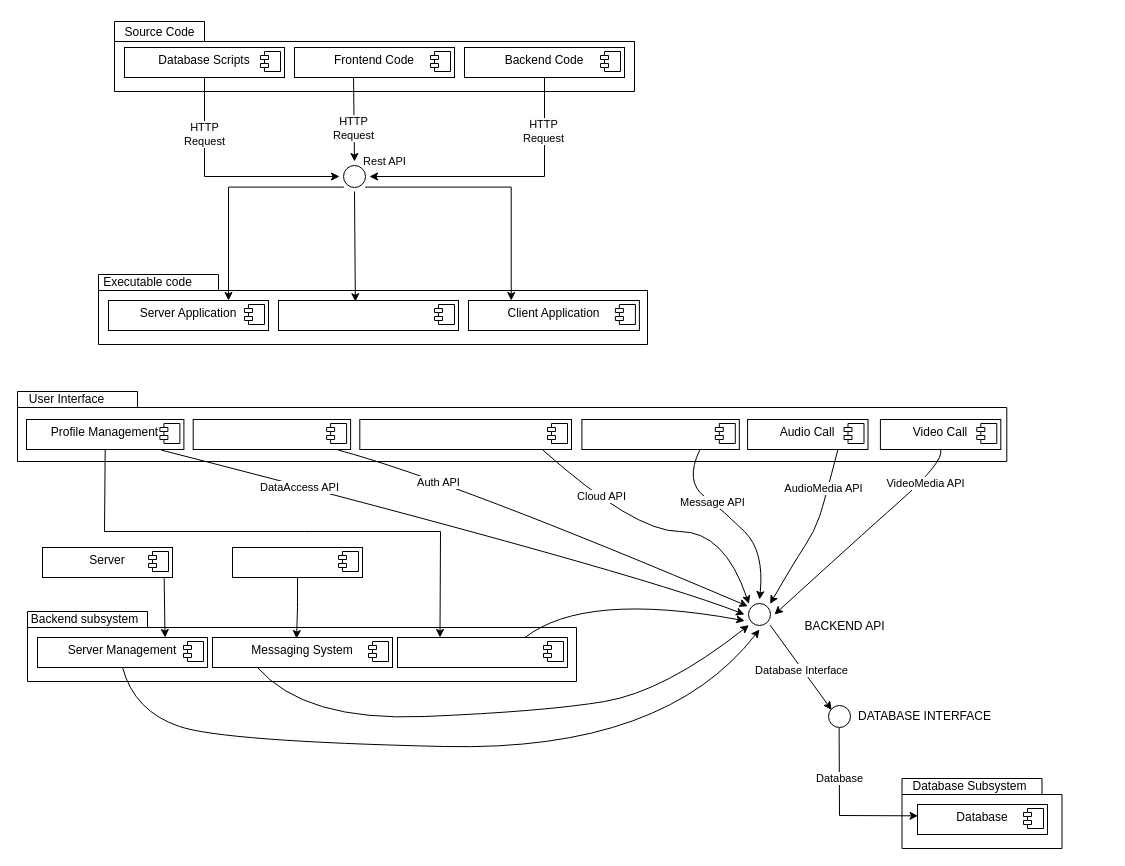
This 1125x866 diagram has some shape labels left out. The centre of each missing label's shape, as x and y in pixels:
Authentication Page: the point at 271,434
Authentication System: the point at 482,652
Database Deployment: the point at 368,315
Message: the point at 297,562
Messaging Interface: the point at 660,434
Server Management Interface: the point at 465,434
